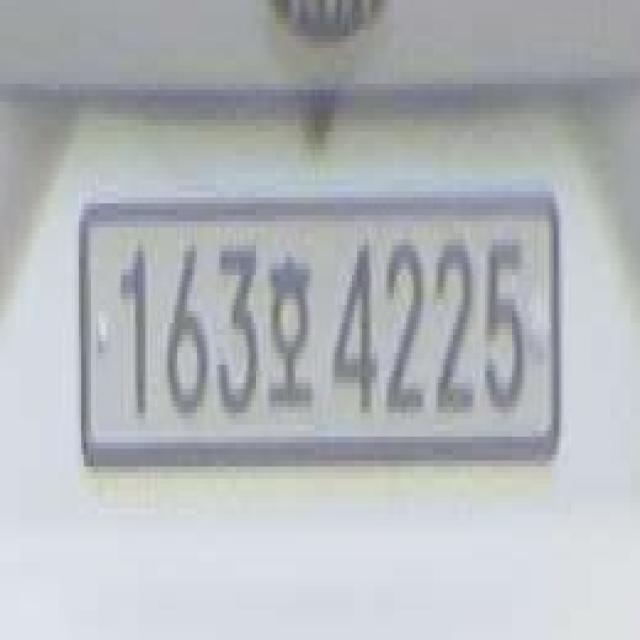plat: (78, 189, 561, 469)
